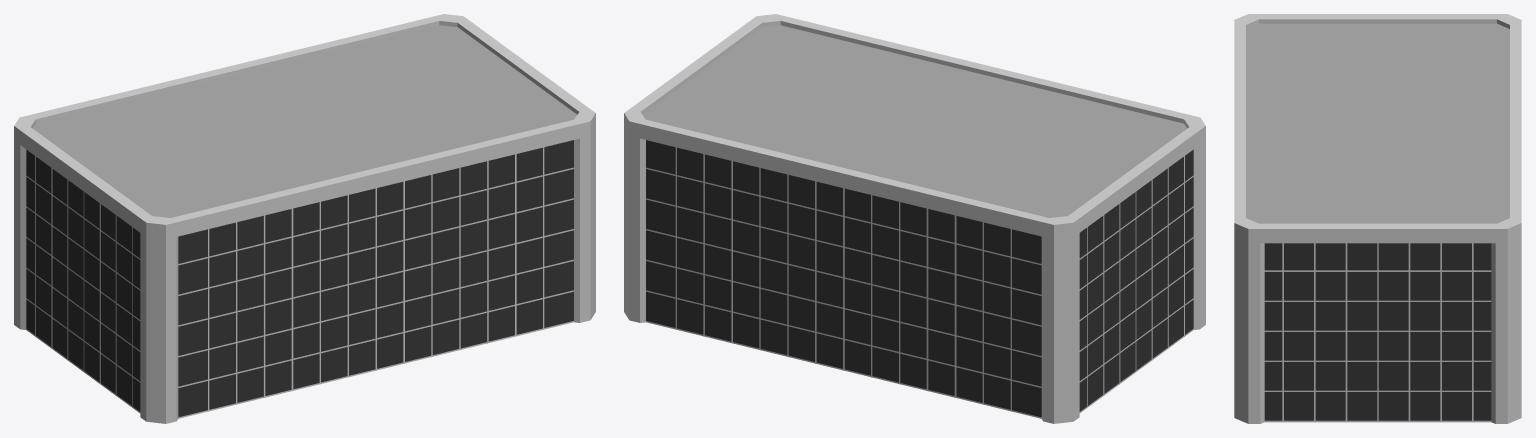
The model's file is spw-urban-bldg-10.glb.
3 renders of one model, left to right at view 1: azimuth 30°, elevation 25°; view 2: azimuth 150°, elevation 25°; view 3: azimuth 270°, elevation 25°, orthographic. The views are drawn at different scales.
Visible parts, largest first — view 1: SPW_Urban_Bldg_10; view 2: SPW_Urban_Bldg_10; view 3: SPW_Urban_Bldg_10.
Boxes of the visible parts, x1,y1,x2,y2 form: SPW_Urban_Bldg_10: [14, 14, 595, 423]; SPW_Urban_Bldg_10: [624, 14, 1205, 423]; SPW_Urban_Bldg_10: [1234, 14, 1521, 423].
Size of the model in its own units: 32.2 by 13.63 by 18.2.
1 material, 1 textured.
